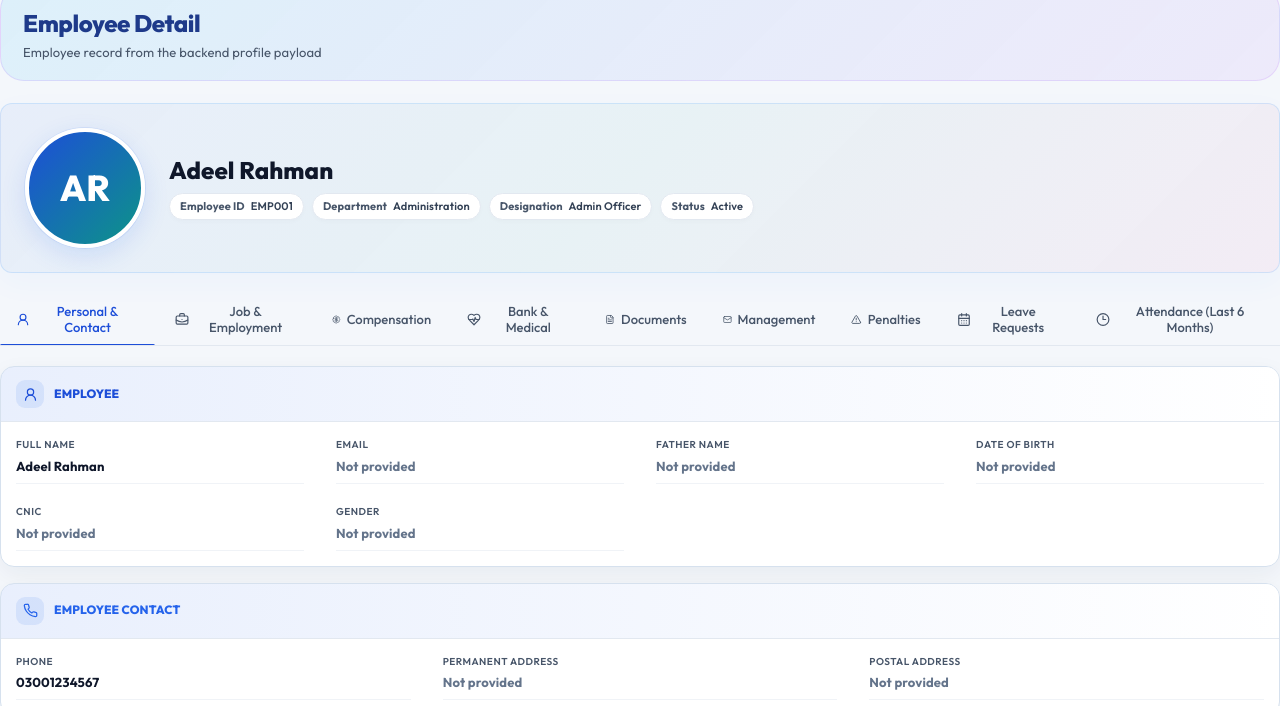
it: EmployeeDetail › uses backend salary revision options and hides percentage fields for Initial
Step 1. Click the button "Management" → (769, 319), box [707,293,831,345]
(page scrolled)
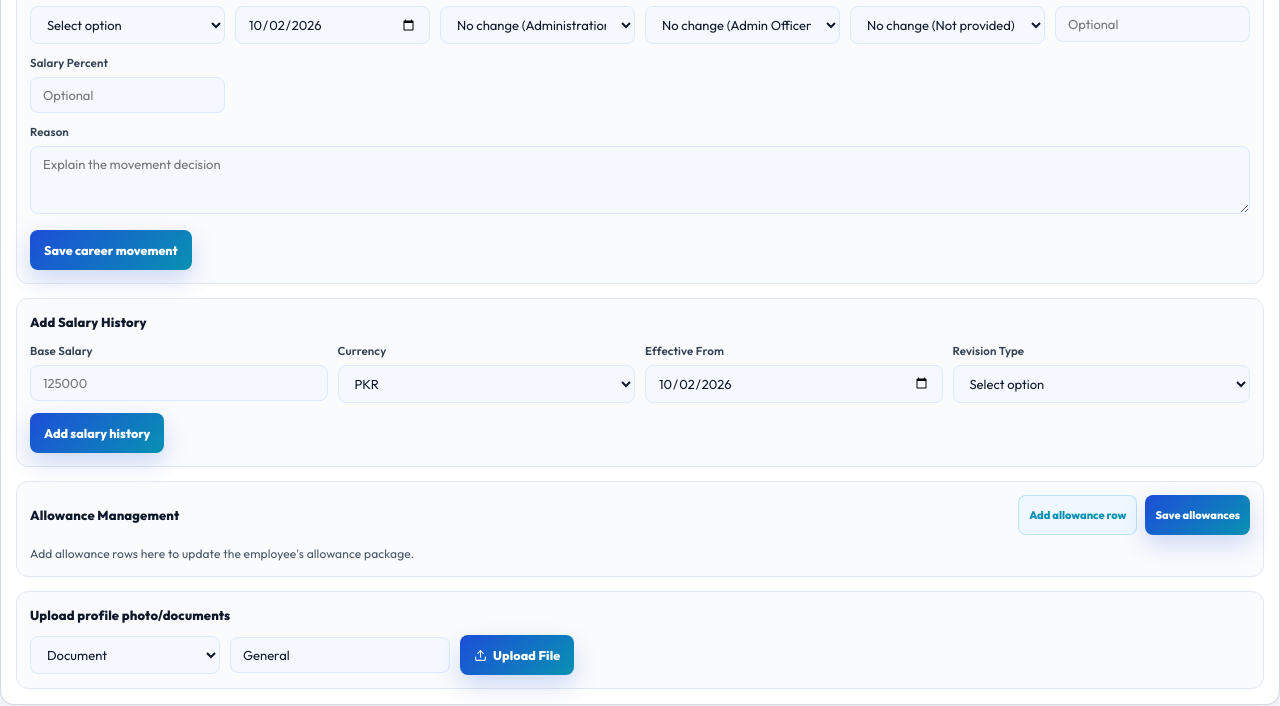
Expected: the field labelled "Revision Percent" is not shown
Now the dropdown labelled "Revision Type" shows "Select option"
Step 2. Select "Initial" in the dropdown labelled "Revision Type" → (1101, 384), box [952,365,1250,403]
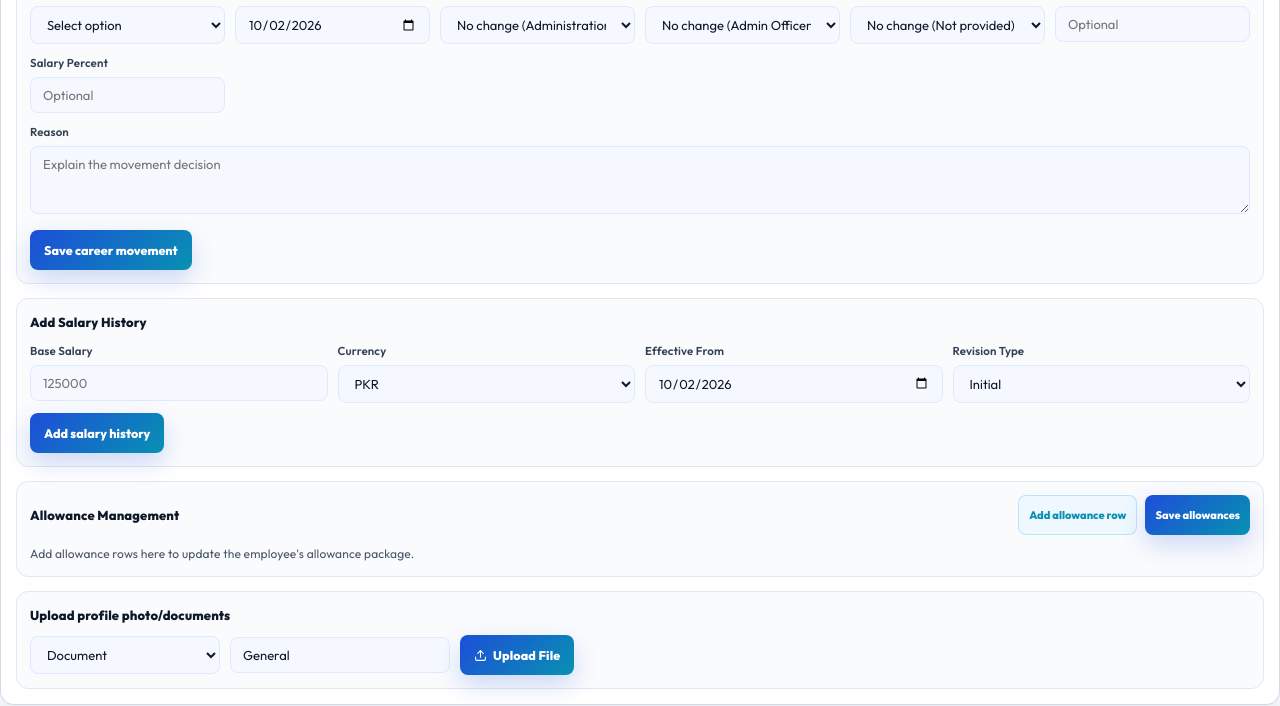
Expected: the field labelled "Revision Percent" is not shown
Expected: the field labelled "Revision Reason" is not shown
Step 3. Select "Promotion" in the dropdown labelled "Revision Type" → (1101, 384), box [952,365,1250,403]
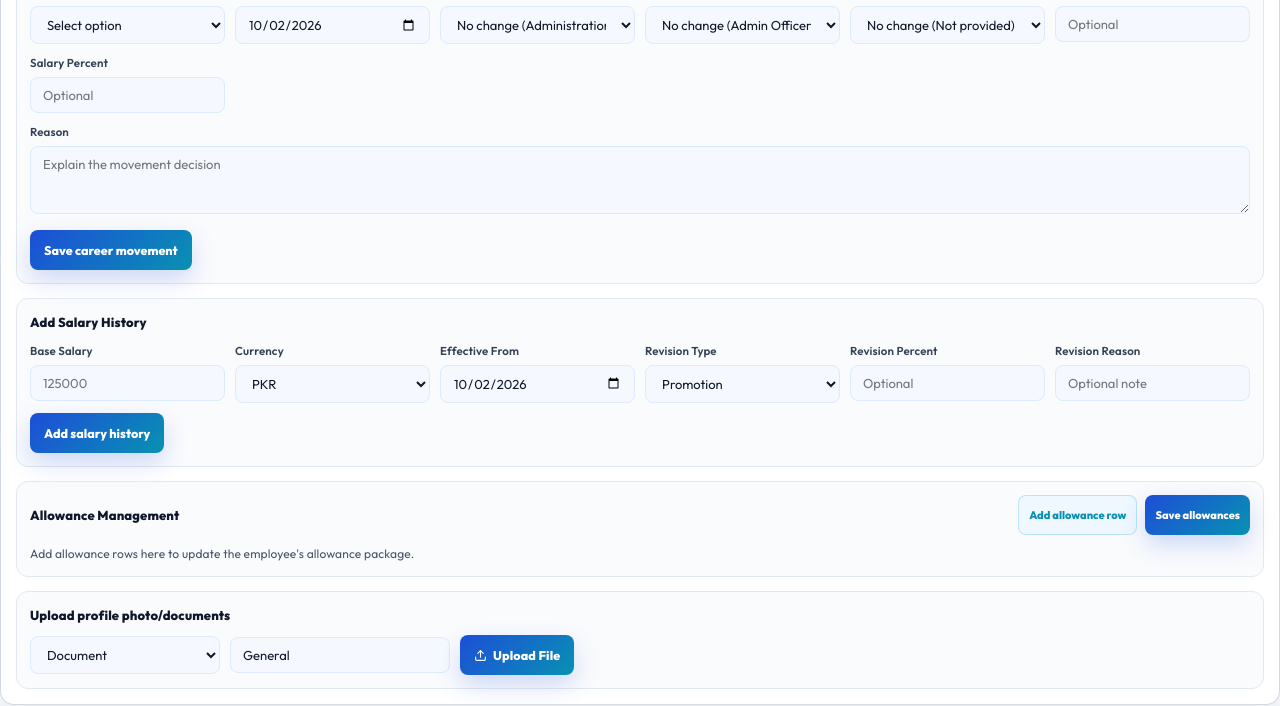
Now the number field labelled "Revision Percent" is shown, box [850,365,1045,401]
Now the field labelled "Revision Reason" is shown, box [1055,365,1250,401]
